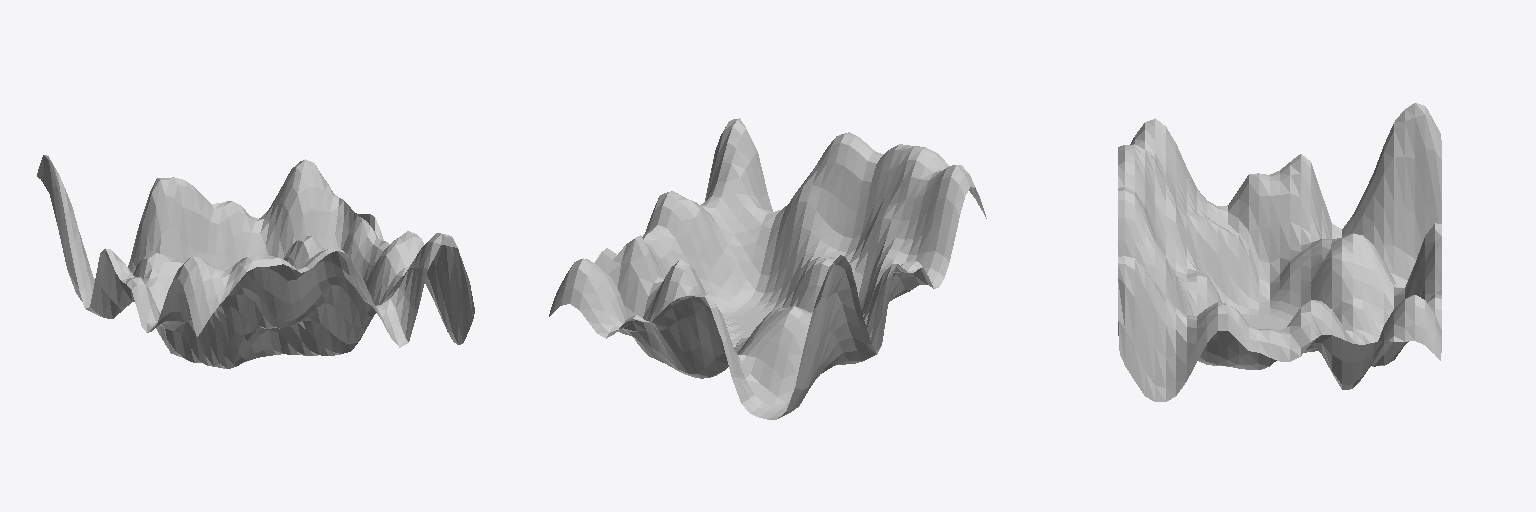
Rendered from mount2.obj.
The picture shows the model from 3 angles: view 1: azimuth 30°, elevation 25°; view 2: azimuth 150°, elevation 25°; view 3: azimuth 270°, elevation 25°; orthographic projection.
Parts seen in each view (by area): view 1: Plane; view 2: Plane; view 3: Plane.
Part boxes in pixels (bbox=[...]): Plane: bbox=[37, 155, 474, 368]; Plane: bbox=[549, 118, 986, 419]; Plane: bbox=[1118, 103, 1441, 401].
Bounding box in the file's own units: 779 × 452 × 782.